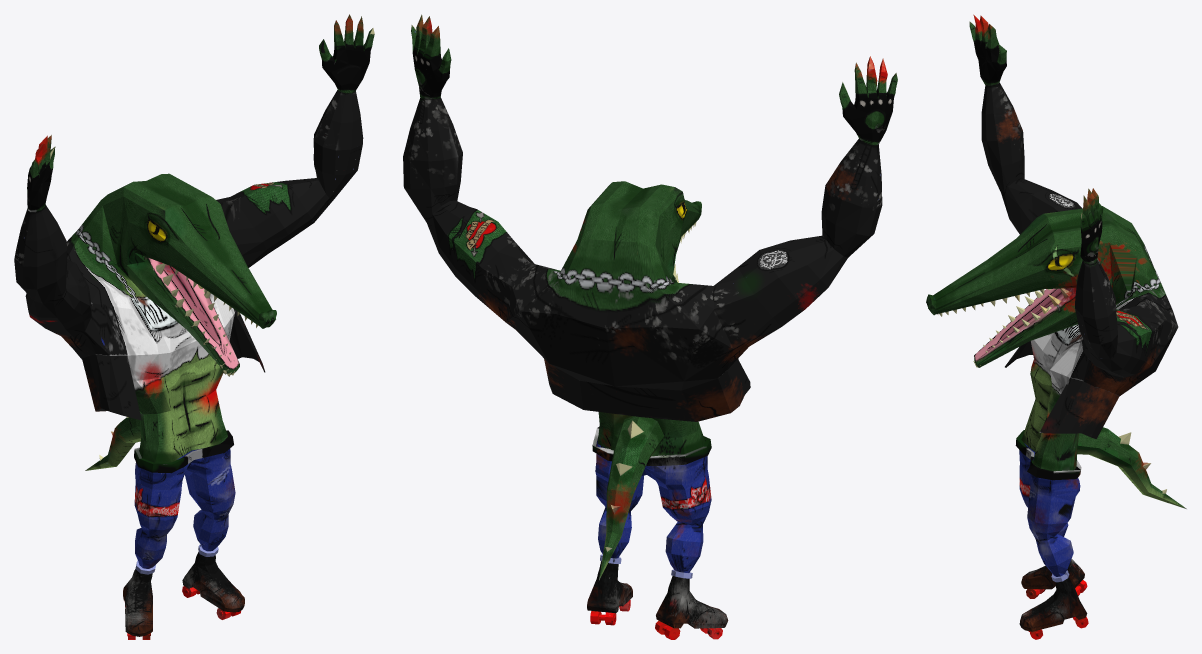
File: cocodrilaBonesSelect_000016.obj
3 renders of one model, left to right at view 1: azimuth 30°, elevation 25°; view 2: azimuth 150°, elevation 25°; view 3: azimuth 270°, elevation 25°, orthographic. The views are drawn at different scales.
Visible parts, largest first — view 1: Crocodile.002_Cylinder.002; view 2: Crocodile.002_Cylinder.002; view 3: Crocodile.002_Cylinder.002.
Boxes of the visible parts, x1=… form: Crocodile.002_Cylinder.002: x1=14, y1=14, x2=374, y2=639; Crocodile.002_Cylinder.002: x1=403, y1=14, x2=897, y2=639; Crocodile.002_Cylinder.002: x1=926, y1=14, x2=1186, y2=639.
Bounding box in the file's own units: 6.46 × 8.55 × 3.87.
